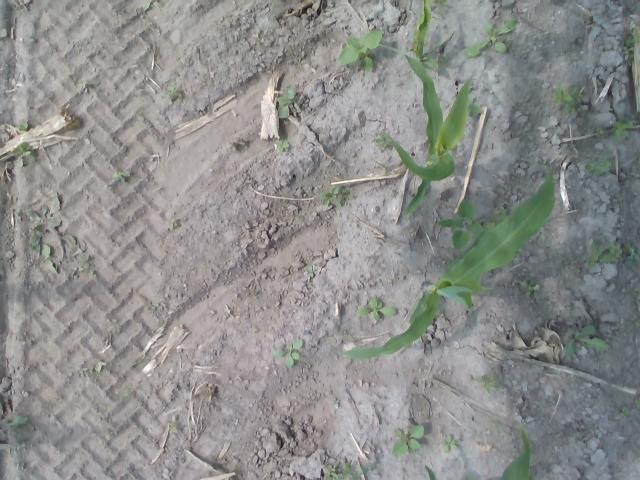Maize: (330, 159, 555, 358), (384, 54, 473, 218), (372, 425, 533, 480), (374, 0, 454, 70)
Weeds: (436, 200, 484, 250), (466, 18, 518, 57), (338, 29, 382, 72), (23, 194, 62, 236), (564, 324, 610, 358), (586, 239, 640, 267), (272, 338, 304, 369), (67, 235, 93, 273), (392, 425, 422, 456), (356, 298, 396, 321), (552, 86, 584, 114), (322, 460, 365, 480), (316, 186, 352, 206), (618, 21, 636, 59), (12, 141, 36, 168), (276, 84, 292, 120), (585, 154, 613, 174), (476, 373, 502, 394), (609, 119, 635, 139), (42, 242, 57, 274), (485, 207, 506, 228), (520, 280, 540, 298), (441, 434, 459, 454), (466, 96, 482, 118), (28, 229, 42, 253), (164, 84, 184, 100), (376, 132, 394, 148), (5, 414, 28, 426), (142, 0, 168, 10), (433, 0, 448, 16), (276, 138, 291, 152), (436, 53, 449, 69), (112, 171, 130, 182), (11, 120, 28, 130), (625, 318, 640, 328), (91, 364, 103, 376), (490, 419, 502, 430), (166, 218, 178, 229), (306, 264, 314, 278), (629, 286, 640, 296), (594, 126, 604, 137), (167, 423, 177, 433), (528, 471, 538, 480), (619, 406, 629, 414), (238, 138, 248, 146), (292, 102, 300, 110), (635, 396, 640, 408), (332, 398, 340, 404)
